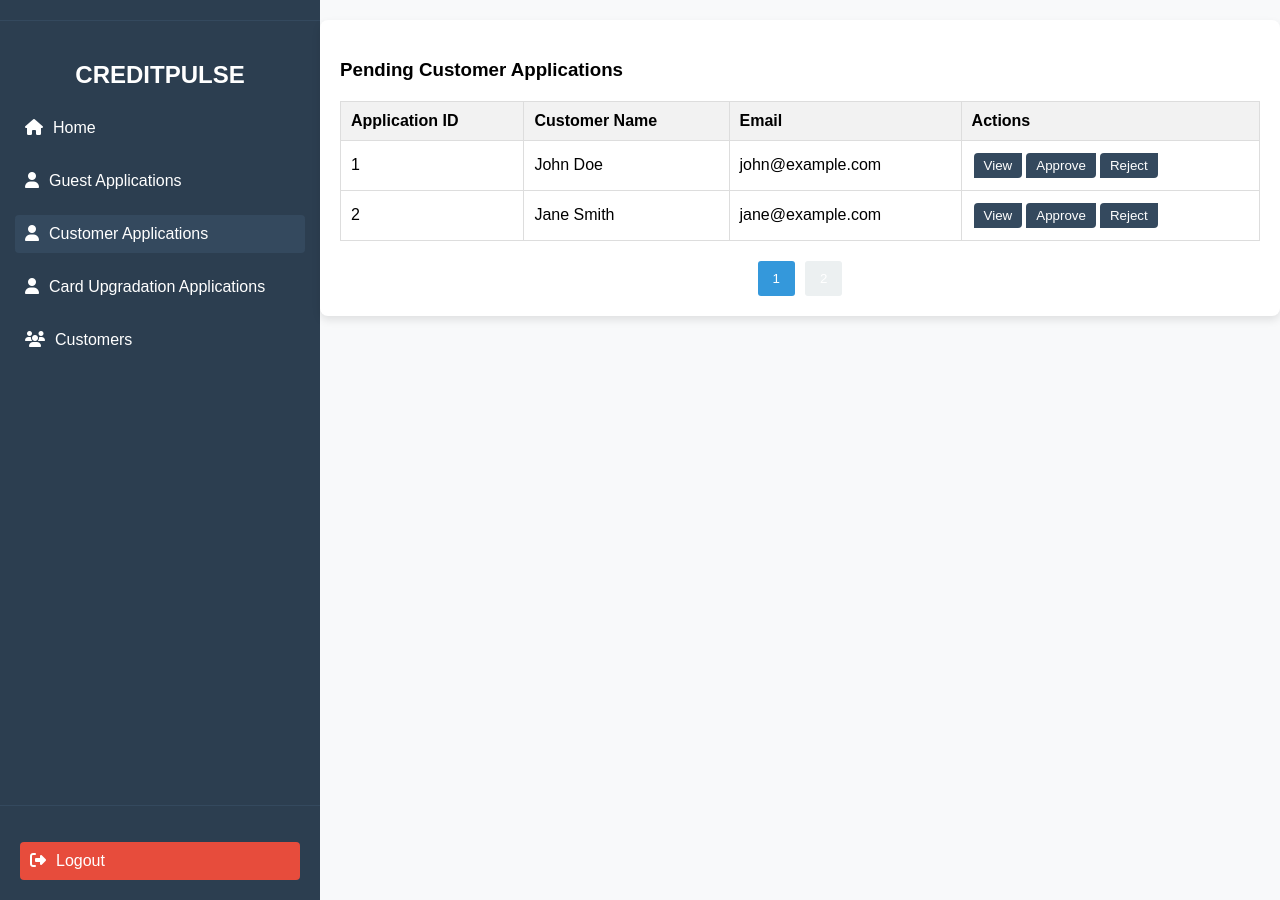
Scenario: CustomerApplication Component › approve modal opens and confirms action
Step 1. Click the button "Approve" in the row of "John Doe" → (1061, 165), box top-left (1026, 153), bottom-right (1096, 178)
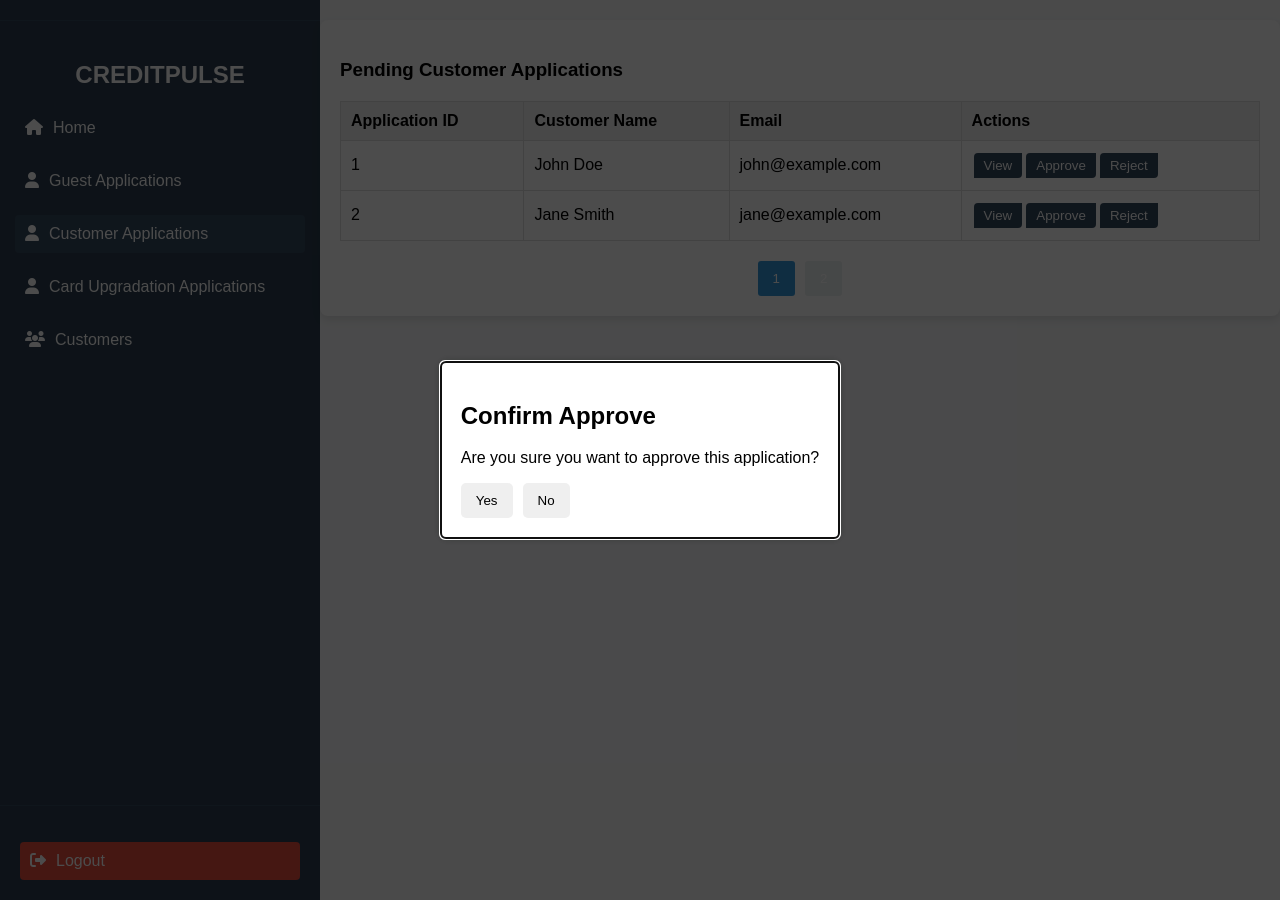
Check: the heading "Confirm Approve" is shown, box top-left (461, 402), bottom-right (656, 428)
Step 2. Click the button "Yes" → (487, 501), box top-left (461, 483), bottom-right (513, 518)
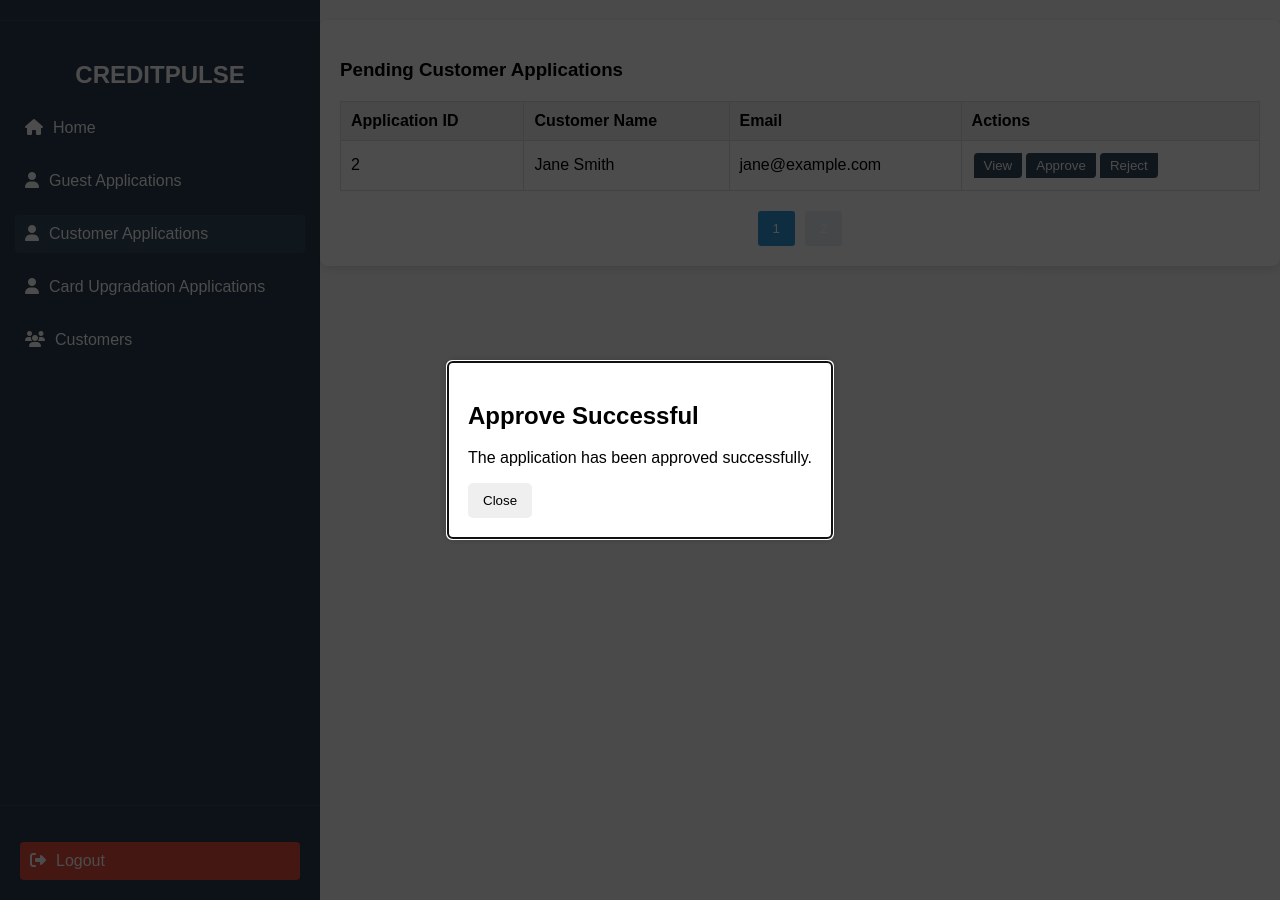
Check: the heading "Approve Successful" is shown, box top-left (468, 402), bottom-right (699, 428)
